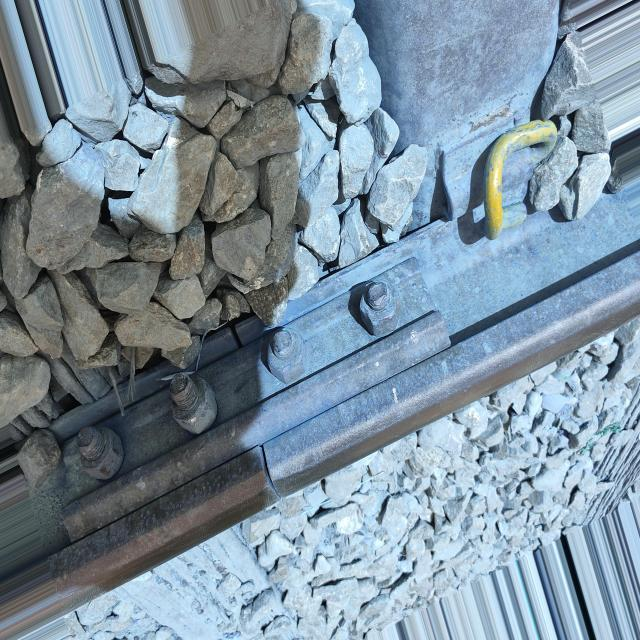Good Fasteners: (424, 96, 562, 254)
Good Joint: (54, 252, 456, 547)
